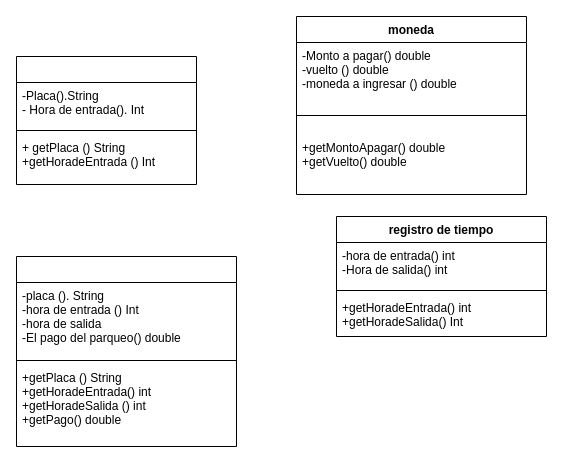
Image size: 563x463. Some labels were removed from this diagram. Each missing label, with the box of its shape:
automovil: (16, 56, 196, 184)
ticket: (16, 256, 236, 446)
